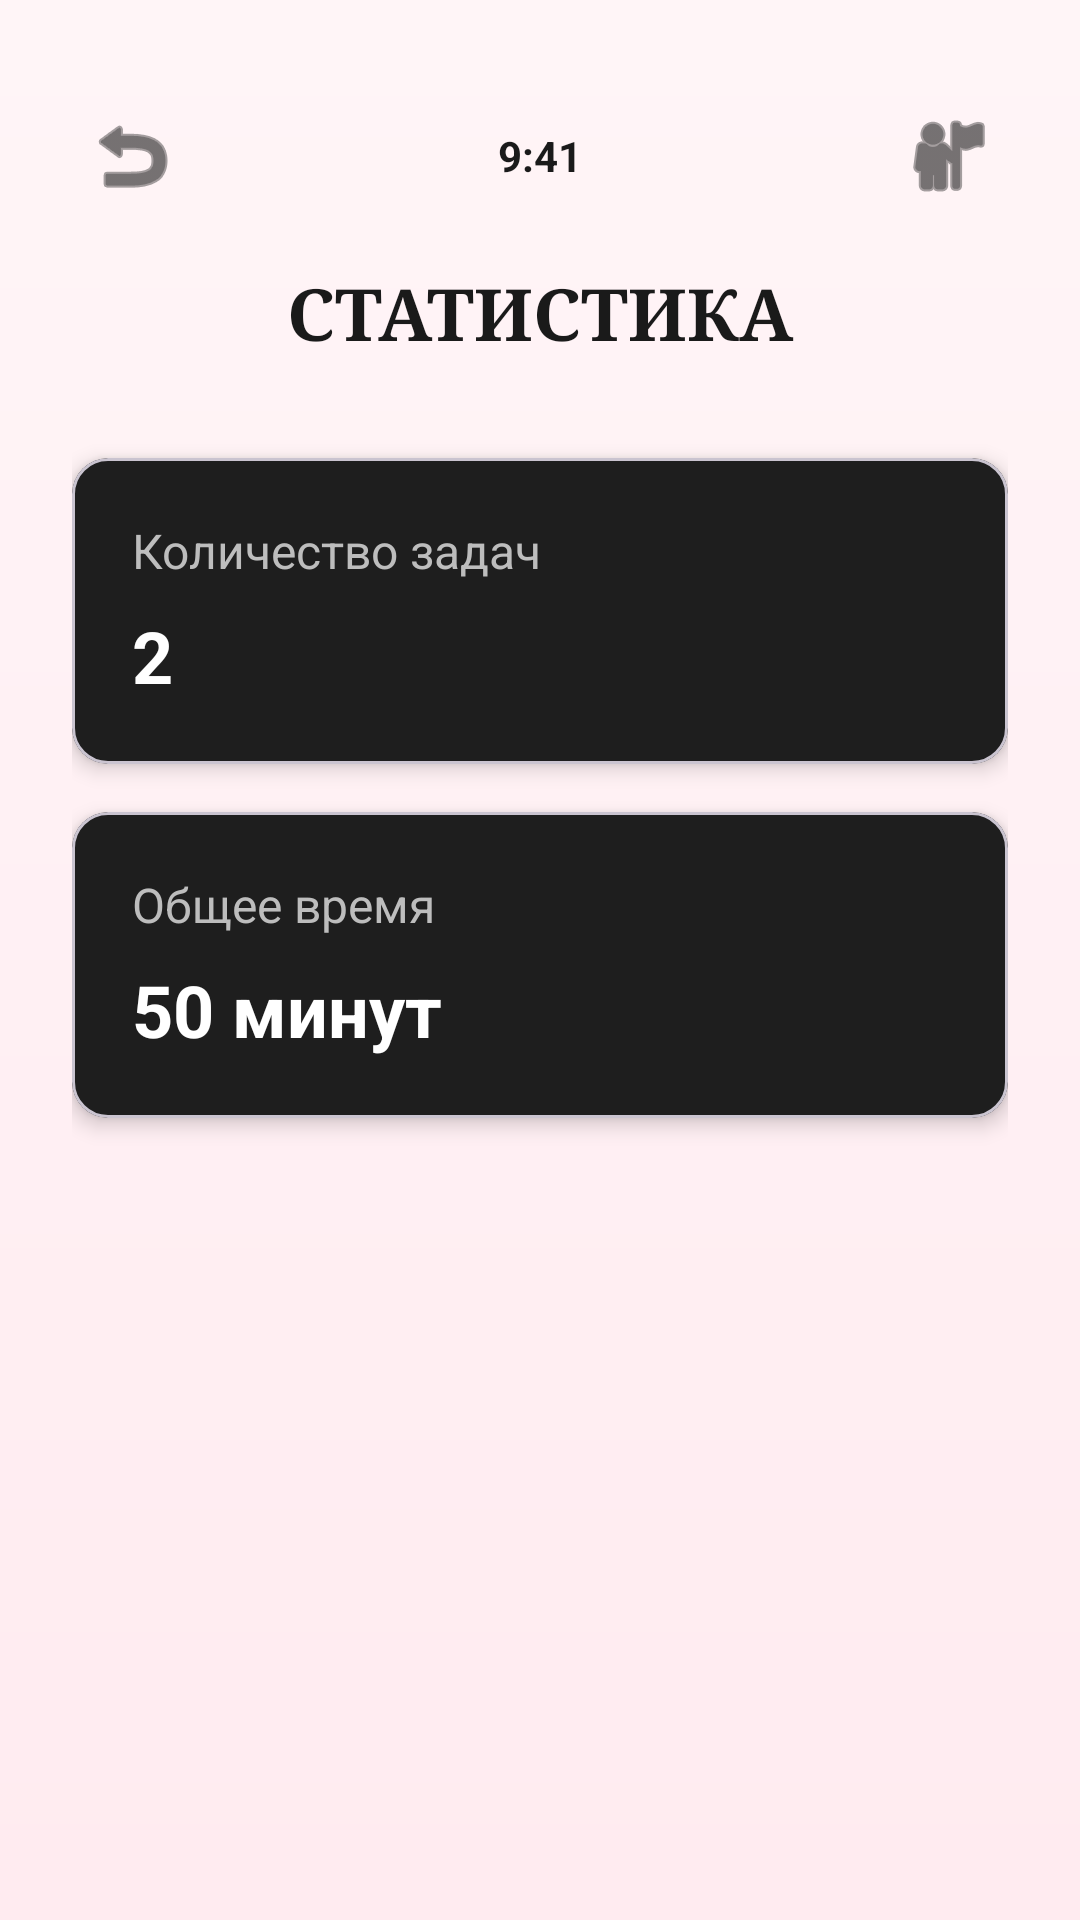

Where to tap for icons on this 1080px x 1920px app screen, as [x,y]:
myplaces: [949,156]
revert: [133,156]
